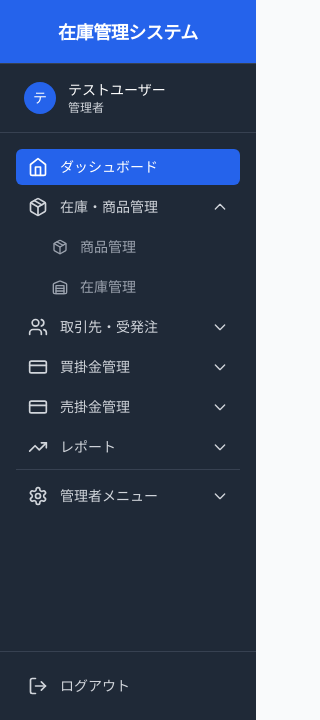
Test: Sidebar › 役割ベースの表示 › should toggle admin section for admin user
expect the text "ユーザー管理" is not shown: met
Note: クリックして開く
Click the button "管理者メニュー" at (128, 496), box left=16, top=478, right=240, bottom=514
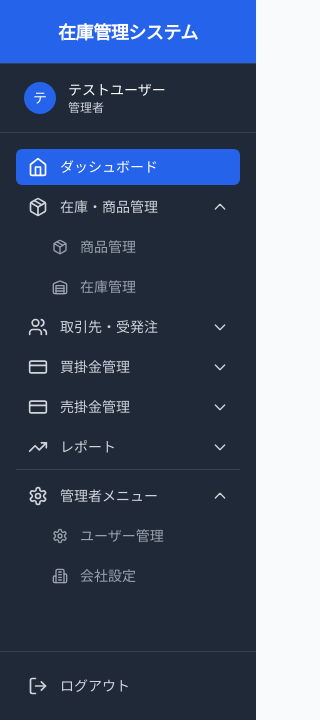
expect the link "ユーザー管理" is shown: met, box left=52, top=527, right=164, bottom=544
expect the link "会社設定" is shown: met, box left=52, top=567, right=136, bottom=584
